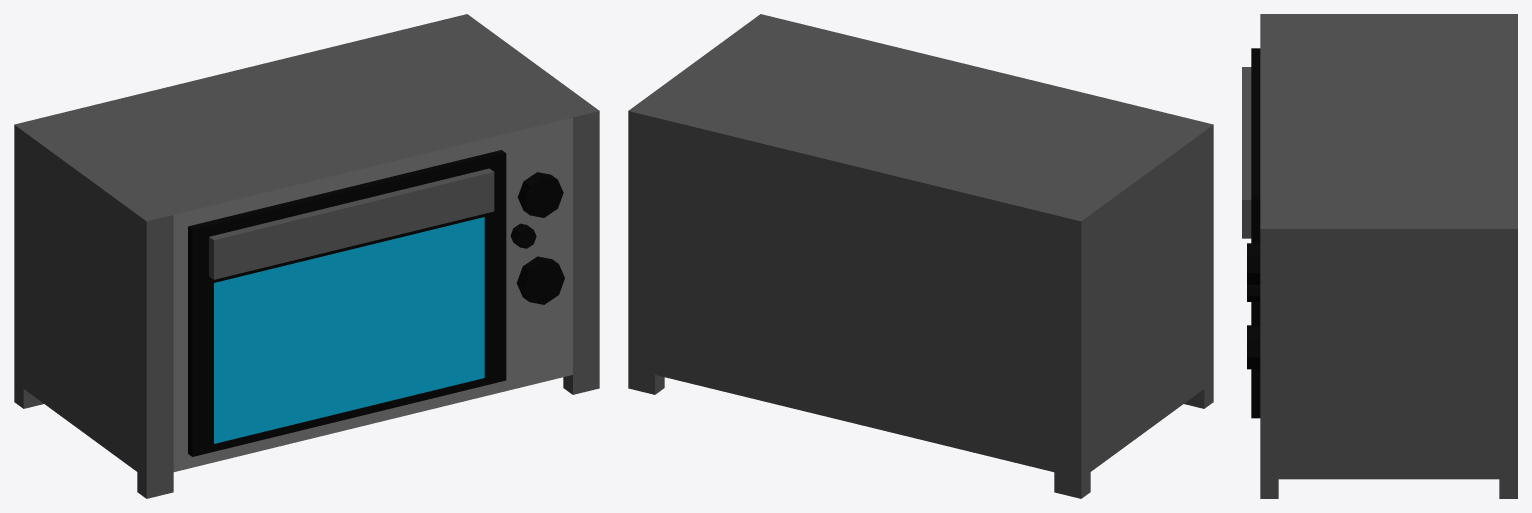
File: oven.fbx
3 renders of one model, left to right at view 1: azimuth 30°, elevation 25°; view 2: azimuth 150°, elevation 25°; view 3: azimuth 270°, elevation 25°, orthographic. The views are drawn at different scales.
Parts seen in each view (by area): view 1: oven; view 2: oven; view 3: oven.
Part boxes in pixels (<box>): oven: <box>14,14,599,498</box>; oven: <box>628,14,1213,498</box>; oven: <box>1242,14,1517,498</box>.
Bounding box in the file's own units: 162 × 94.71 × 87.67.
